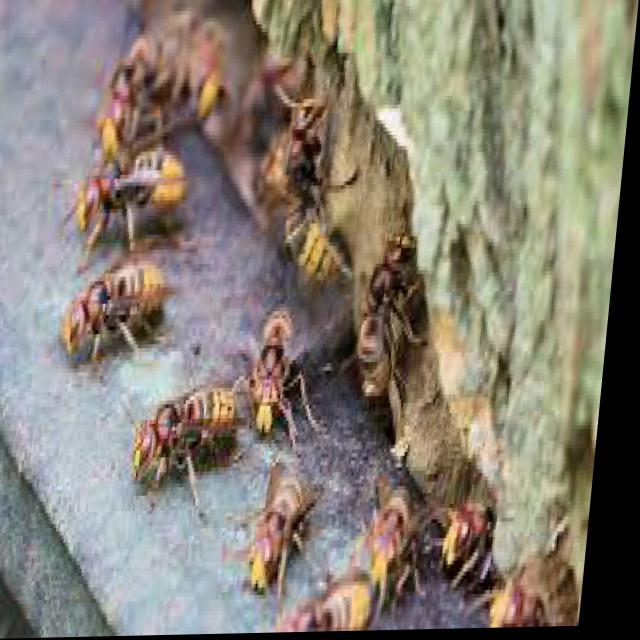Vespa Crabro: (360, 191, 457, 414), (259, 81, 361, 286), (134, 353, 264, 491), (231, 292, 335, 460), (74, 146, 218, 258), (438, 469, 580, 581), (62, 247, 192, 359), (248, 442, 342, 594), (360, 453, 446, 616), (290, 556, 396, 630)
